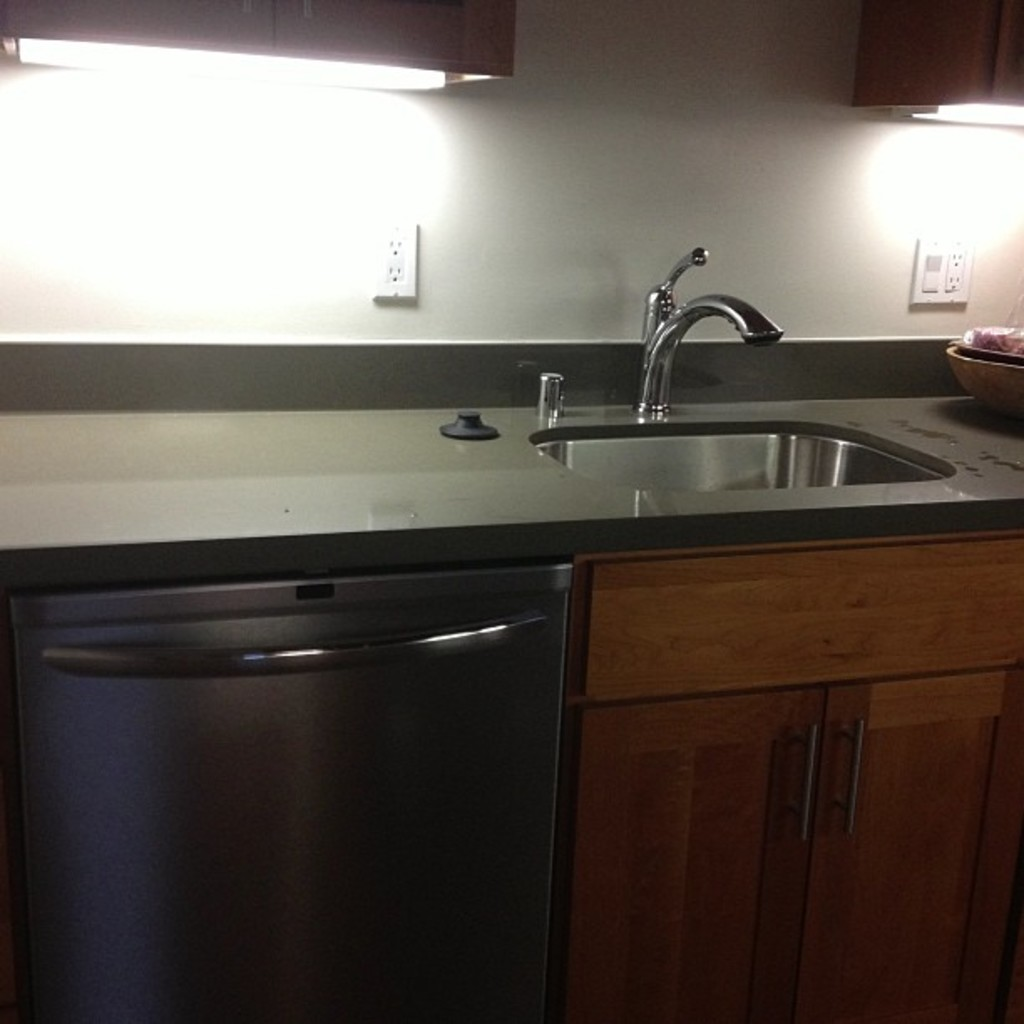tap: (582, 240, 808, 456)
